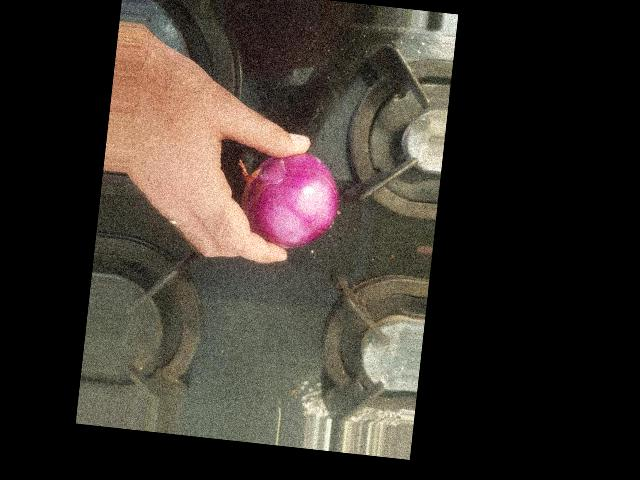onion: (279, 240, 378, 329)
